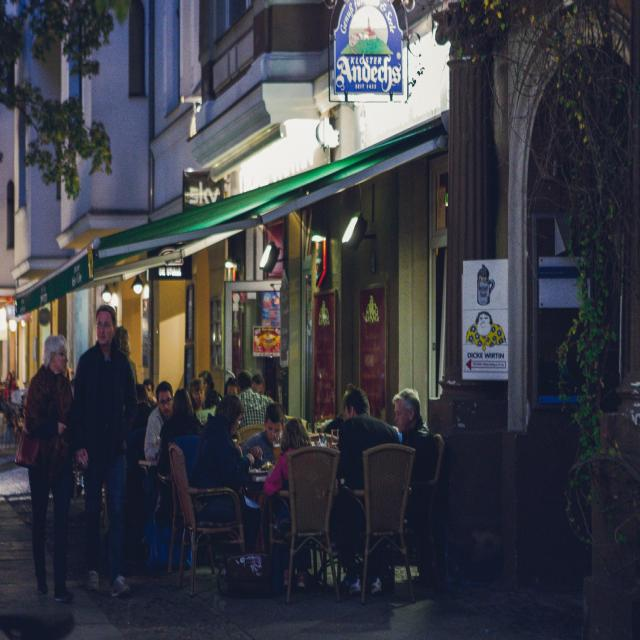body: (70, 299, 140, 603), (10, 328, 84, 606), (331, 381, 405, 598), (189, 391, 262, 556), (157, 387, 205, 572), (262, 417, 312, 592), (391, 387, 435, 530), (143, 380, 175, 487), (240, 401, 287, 471), (233, 368, 275, 431), (464, 309, 508, 355), (110, 323, 139, 387), (188, 375, 216, 428), (198, 369, 224, 411), (1, 369, 24, 410), (324, 406, 344, 434), (137, 378, 154, 408), (250, 372, 266, 395), (225, 378, 238, 396)
